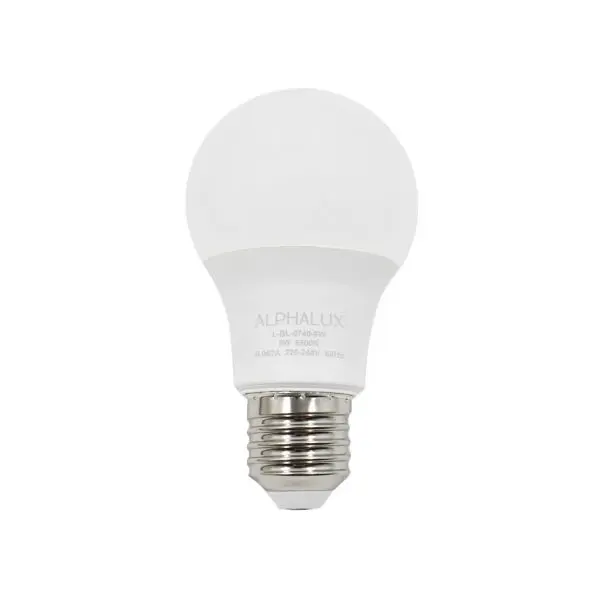toxic_waste: (179, 92, 420, 515)
